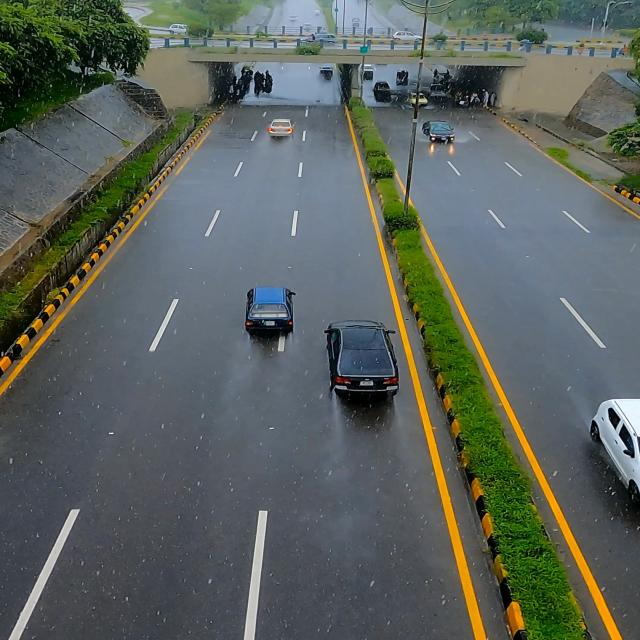Car: (321, 314, 409, 406), (241, 283, 301, 338), (418, 118, 458, 146), (266, 113, 298, 142)
